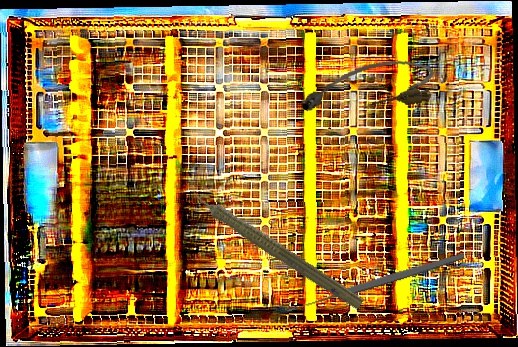Cannula: (296, 55, 438, 120)
Handpiece: (178, 177, 369, 314)
Surgical Spoon: (284, 250, 467, 316)
